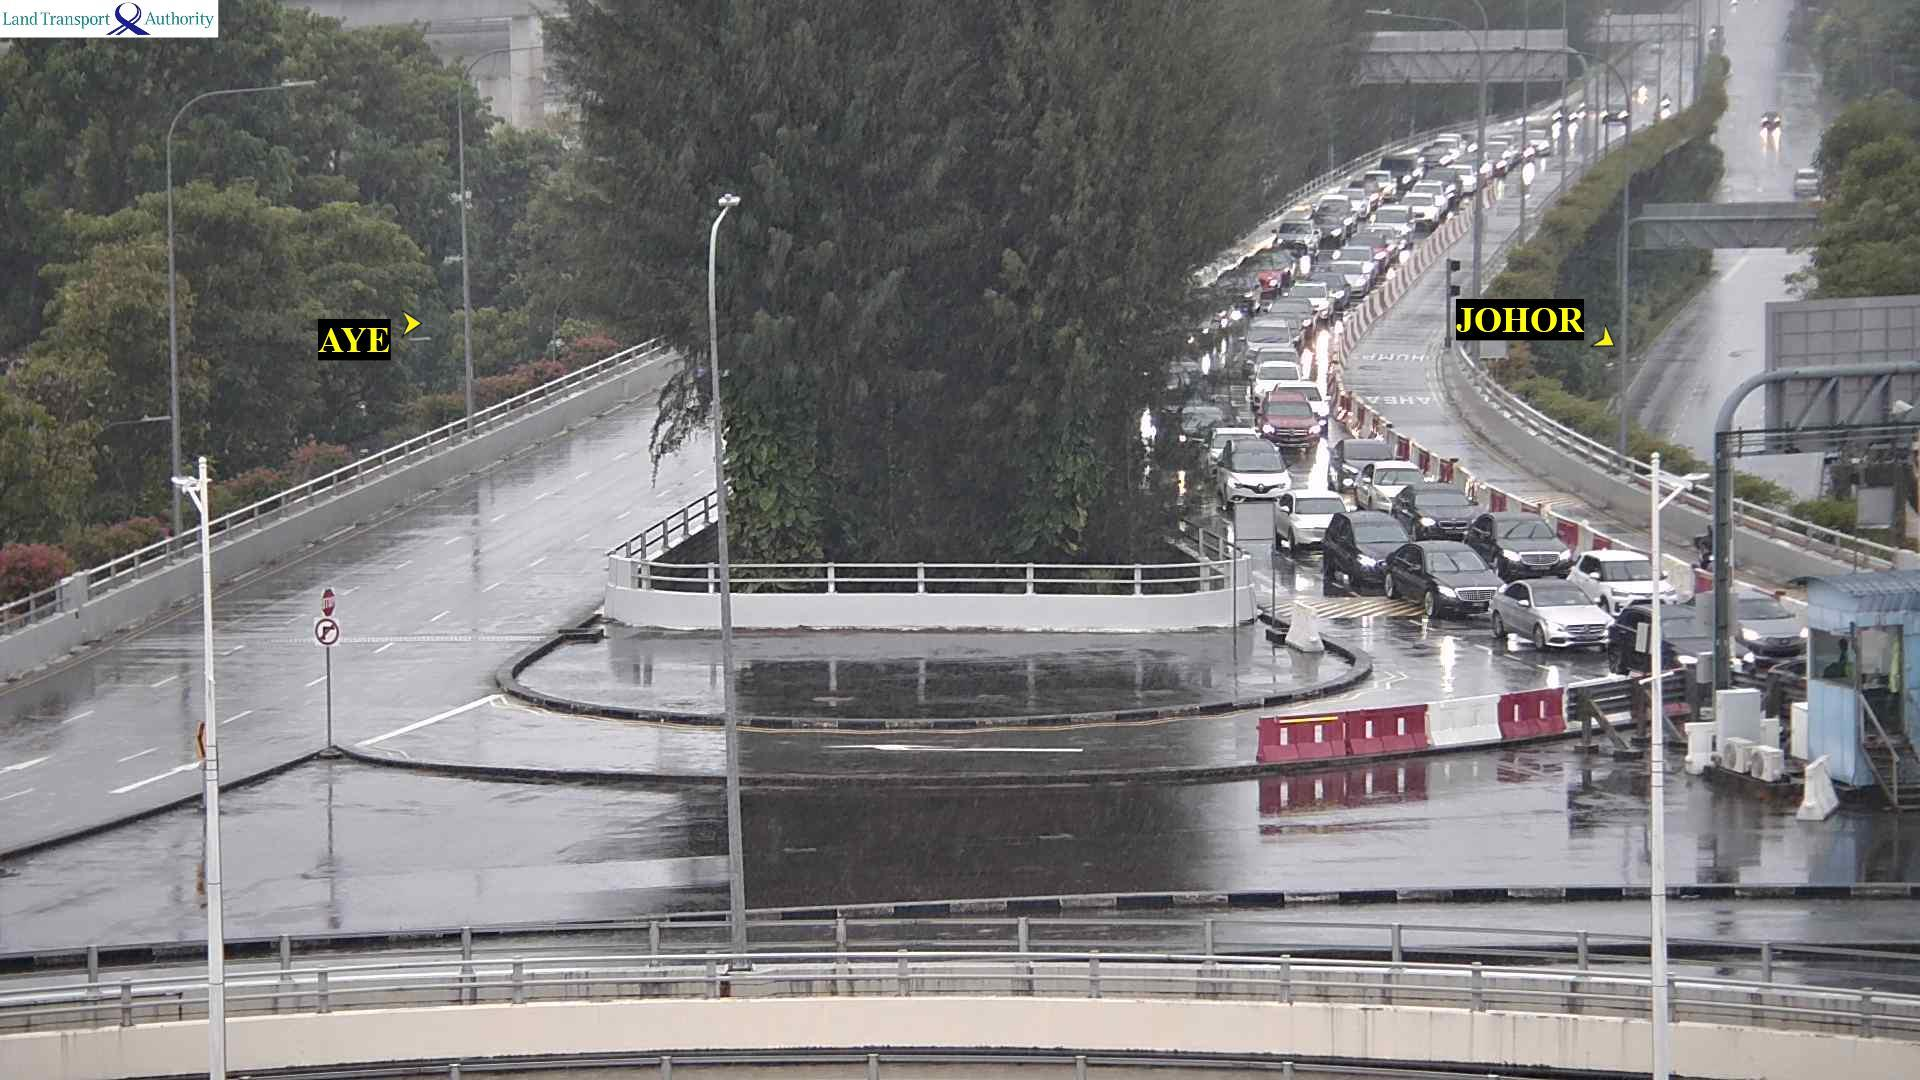vehicle-secondlink-johor: (1617, 593, 1812, 675), (1378, 547, 1515, 619), (1486, 586, 1638, 650), (1533, 555, 1708, 610), (1458, 515, 1580, 578), (1322, 518, 1429, 578), (1318, 437, 1414, 497), (1220, 439, 1302, 502), (1390, 485, 1493, 535), (1278, 495, 1340, 547), (1262, 395, 1315, 444), (1276, 284, 1346, 321), (1209, 267, 1264, 314), (1276, 386, 1328, 432), (1206, 429, 1254, 470), (1318, 263, 1377, 295), (1253, 362, 1299, 400), (1269, 223, 1326, 253), (1243, 255, 1289, 291), (1421, 169, 1463, 206), (1256, 348, 1304, 380), (1260, 248, 1301, 284), (1317, 195, 1359, 230), (1400, 192, 1438, 230), (1370, 209, 1419, 237), (1248, 324, 1288, 358), (1414, 181, 1446, 214), (1381, 156, 1415, 187), (1310, 214, 1345, 243), (1351, 180, 1382, 208), (1363, 171, 1396, 197), (1342, 189, 1371, 216), (1415, 145, 1449, 167), (1482, 150, 1508, 175), (1453, 165, 1474, 189), (1432, 139, 1457, 157)
